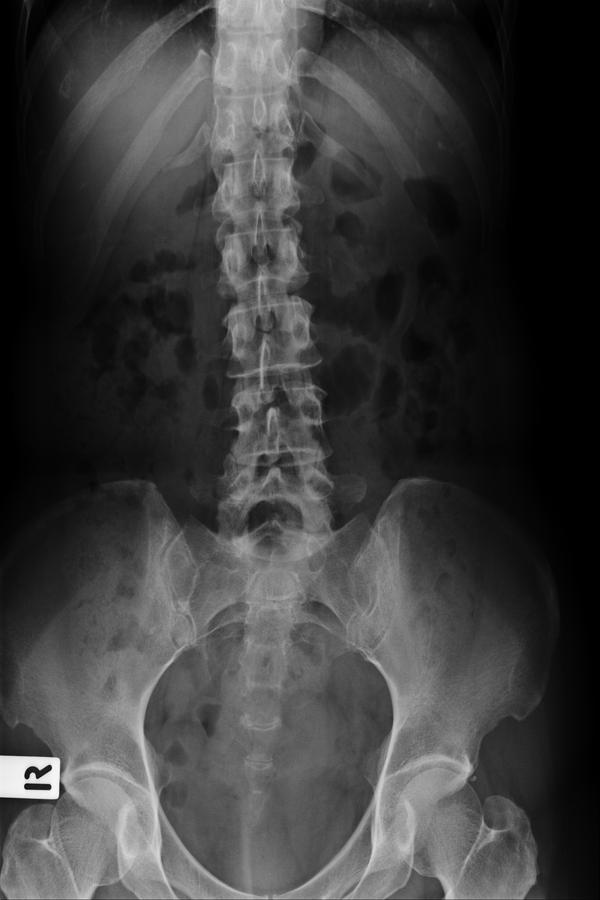lumbar scoliosis: (200, 129, 335, 556)
